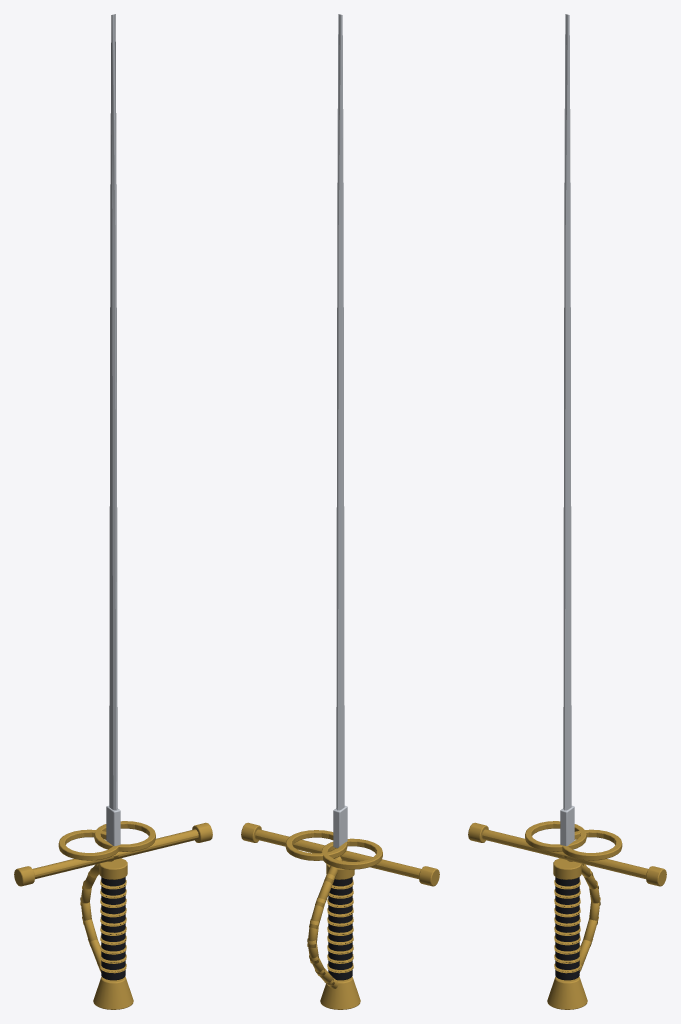
Rendered from rapier.glb.
3 renders of one model, left to right at view 1: azimuth 30°, elevation 25°; view 2: azimuth 150°, elevation 25°; view 3: azimuth 330°, elevation 25°, orthographic.
Visible parts, largest first — view 1: blade, grip, quillons, pommel, side_ring-1, side_ring1, ricasso, ferrule; view 2: blade, grip, quillons, pommel, side_ring-1, side_ring1, ricasso; view 3: blade, grip, quillons, pommel, side_ring1, side_ring-1, ricasso, ferrule.
Boxes of the visible parts, left/top/right/bottom form: blade: left=109, top=14, right=117, bottom=810; grip: left=101, top=877, right=125, bottom=980; quillons: left=32, top=829, right=198, bottom=879; pommel: left=93, top=976, right=133, bottom=1009; side_ring-1: left=58, top=829, right=118, bottom=860; side_ring1: left=94, top=821, right=155, bottom=851; ricasso: left=106, top=805, right=120, bottom=846; ferrule: left=99, top=858, right=127, bottom=879; blade: left=336, top=14, right=344, bottom=810; grip: left=328, top=877, right=352, bottom=980; quillons: left=255, top=829, right=421, bottom=878; pommel: left=320, top=976, right=360, bottom=1009; side_ring-1: left=321, top=838, right=382, bottom=869; side_ring1: left=285, top=830, right=347, bottom=860; ricasso: left=333, top=805, right=347, bottom=848; blade: left=563, top=14, right=571, bottom=810; grip: left=555, top=877, right=579, bottom=980; quillons: left=482, top=829, right=648, bottom=878; pommel: left=547, top=976, right=587, bottom=1009; side_ring1: left=562, top=829, right=622, bottom=860; side_ring-1: left=525, top=821, right=586, bottom=851; ricasso: left=560, top=805, right=574, bottom=846; ferrule: left=553, top=858, right=581, bottom=879.
Bounding box in the file's own units: 0.214 × 1.06 × 0.0801.
